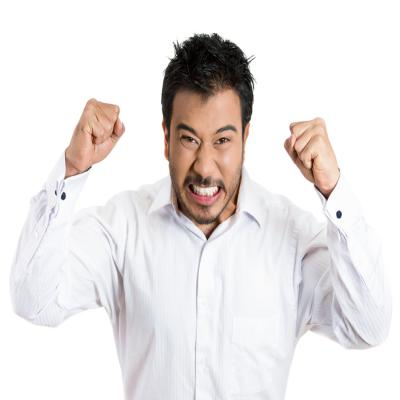angry: (167, 79, 241, 217)
